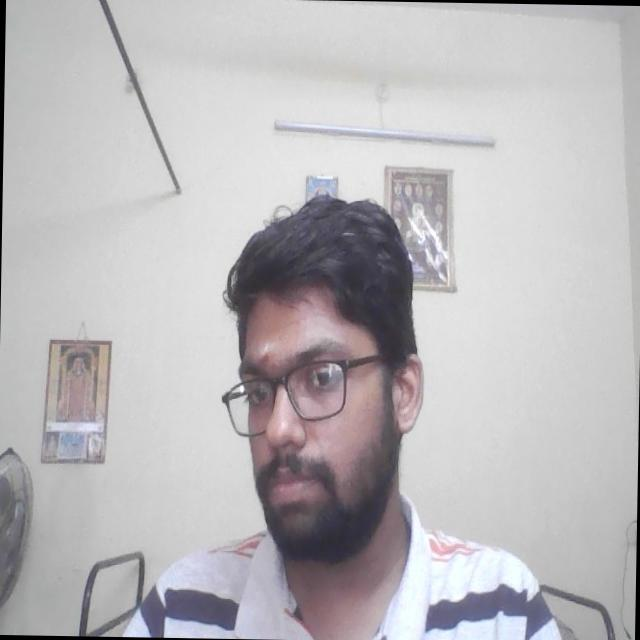Focused: (220, 294, 393, 522)
